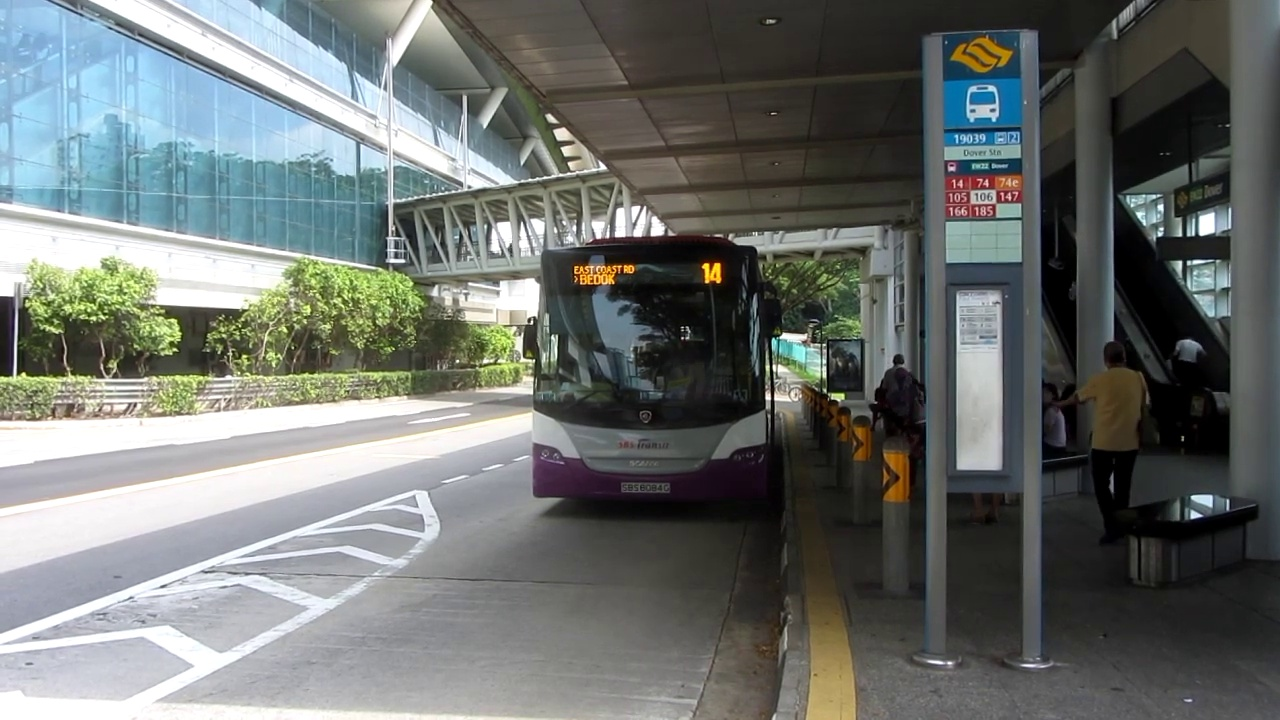bus panel: (567, 261, 727, 289)
